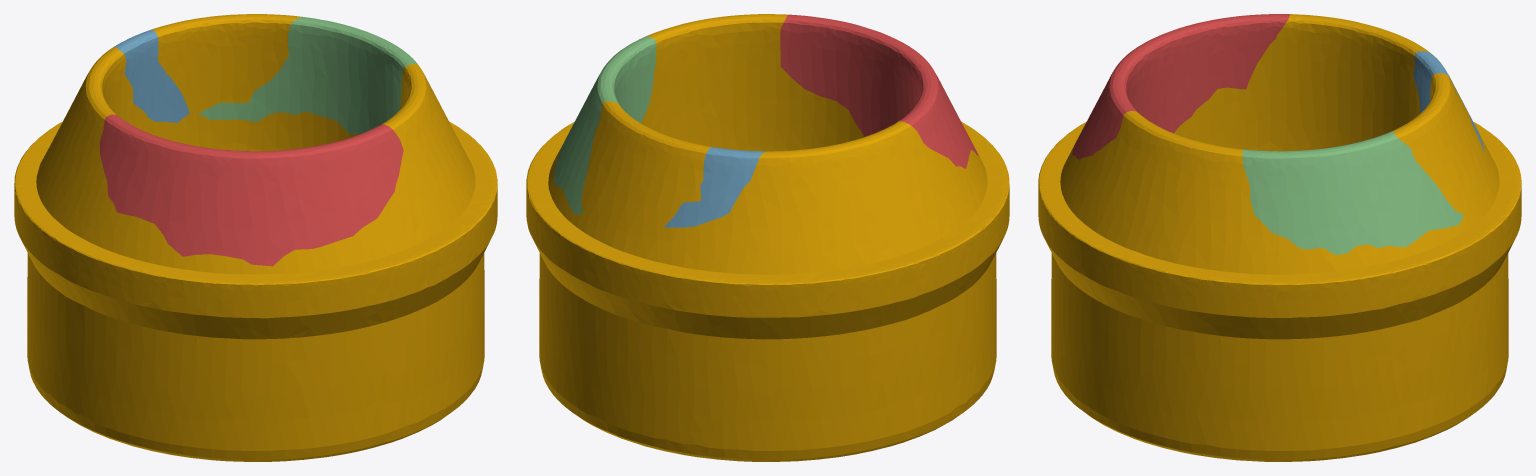
File: fractured_65_4pcs.glb
3 views of the same model, side by side, from view 1: azimuth 30°, elevation 25°; view 2: azimuth 150°, elevation 25°; view 3: azimuth 270°, elevation 25° (orthographic).
Visible parts, largest first — view 1: piece_0.obj, piece_1.obj, piece_3.obj, piece_2.obj; view 2: piece_0.obj, piece_1.obj, piece_3.obj, piece_2.obj; view 3: piece_0.obj, piece_3.obj, piece_1.obj, piece_2.obj.
Part boxes in pixels (x1=…): piece_0.obj: x1=14, y1=14, x2=497, y2=461; piece_1.obj: x1=99, y1=114, x2=403, y2=266; piece_3.obj: x1=198, y1=17, x2=417, y2=134; piece_2.obj: x1=114, y1=29, x2=189, y2=122; piece_0.obj: x1=526, y1=14, x2=1009, y2=461; piece_1.obj: x1=780, y1=14, x2=978, y2=168; piece_3.obj: x1=553, y1=36, x2=656, y2=214; piece_2.obj: x1=664, y1=147, x2=766, y2=227; piece_0.obj: x1=1038, y1=14, x2=1521, y2=461; piece_3.obj: x1=1242, y1=131, x2=1463, y2=255; piece_1.obj: x1=1072, y1=14, x2=1289, y2=159; piece_2.obj: x1=1413, y1=51, x2=1484, y2=152.
Bounding box in the file's own units: 1 × 0.6569 × 1.
